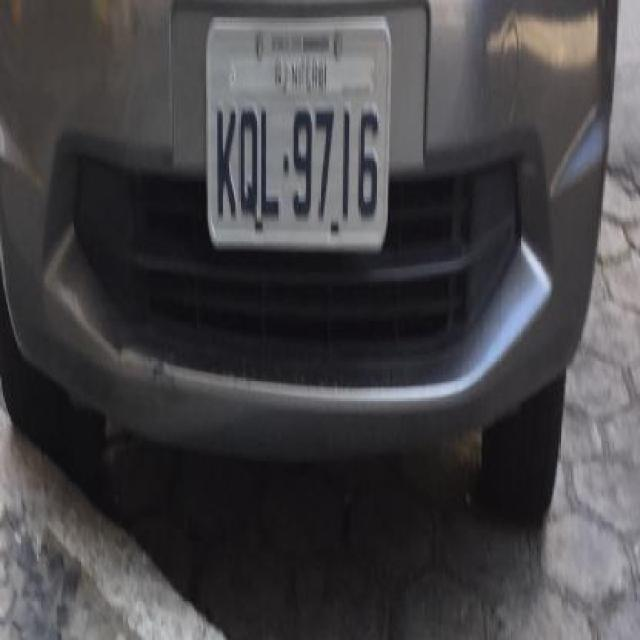old_plate: (198, 8, 398, 260)
